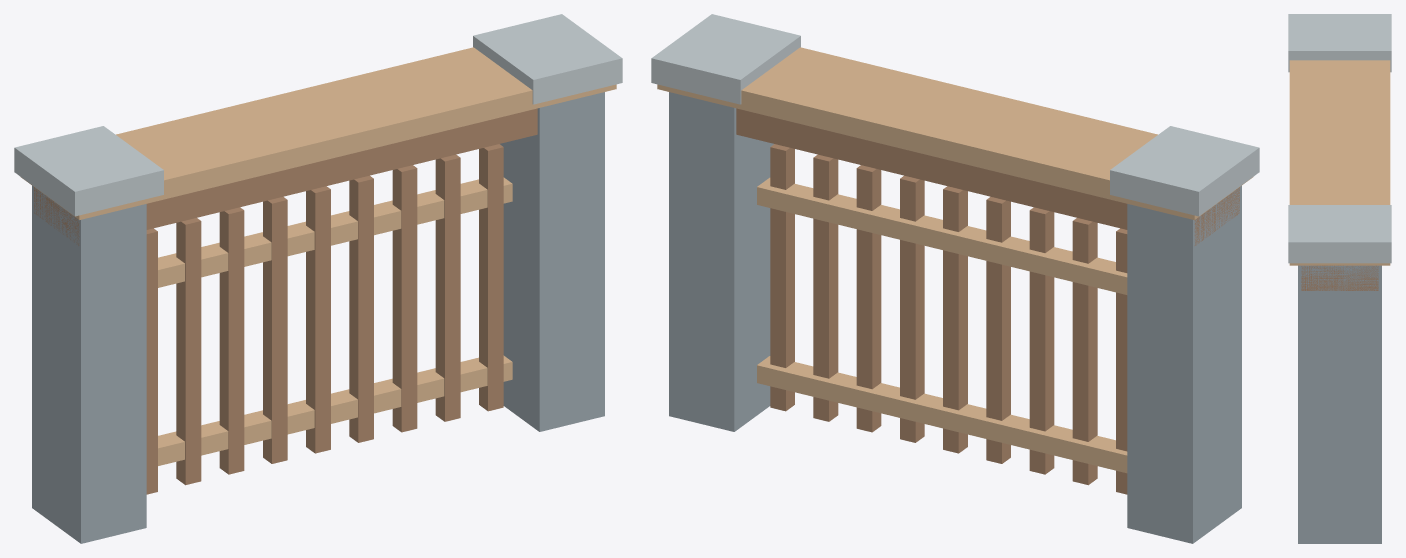
File: wall-gate-clean.glb
The picture shows the model from 3 angles, left to right: view 1: azimuth 30°, elevation 25°; view 2: azimuth 150°, elevation 25°; view 3: azimuth 270°, elevation 25°; orthographic projection. The views are drawn at different scales.
Visible parts, largest first — view 1: wall-gate-kit-clean-stone, wall-gate-kit-clean-wood, wall-gate-kit-clean-end, wall-gate-kit-clean-light; view 2: wall-gate-kit-clean-stone, wall-gate-kit-clean-wood, wall-gate-kit-clean-end, wall-gate-kit-clean-light; view 3: wall-gate-kit-clean-stone, wall-gate-kit-clean-end, wall-gate-kit-clean-light, wall-gate-kit-clean-wood.
Boxes of the visible parts, x1=… form: wall-gate-kit-clean-stone: x1=32, y1=92, x2=604, y2=543; wall-gate-kit-clean-wood: x1=34, y1=108, x2=537, y2=494; wall-gate-kit-clean-end: x1=21, y1=47, x2=616, y2=465; wall-gate-kit-clean-light: x1=14, y1=14, x2=622, y2=216; wall-gate-kit-clean-stone: x1=669, y1=92, x2=1241, y2=543; wall-gate-kit-clean-wood: x1=736, y1=108, x2=1239, y2=494; wall-gate-kit-clean-end: x1=657, y1=47, x2=1252, y2=473; wall-gate-kit-clean-light: x1=651, y1=14, x2=1259, y2=216; wall-gate-kit-clean-stone: x1=1298, y1=265, x2=1381, y2=543; wall-gate-kit-clean-end: x1=1289, y1=60, x2=1390, y2=265; wall-gate-kit-clean-light: x1=1288, y1=14, x2=1391, y2=263; wall-gate-kit-clean-wood: x1=1301, y1=265, x2=1378, y2=290.
Bounding box in the file's own units: 4.18 × 2.62 × 0.8.
